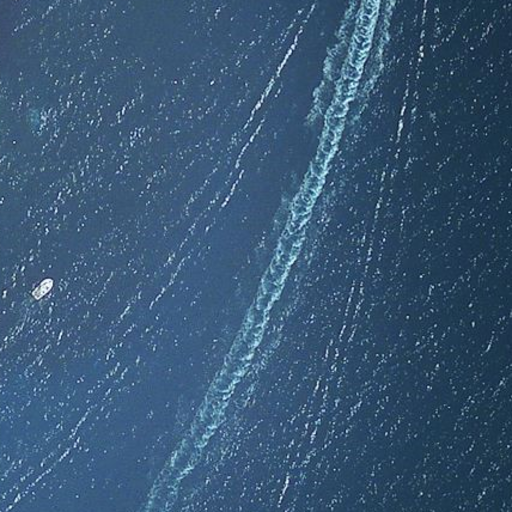ship: (28, 276, 56, 303)
